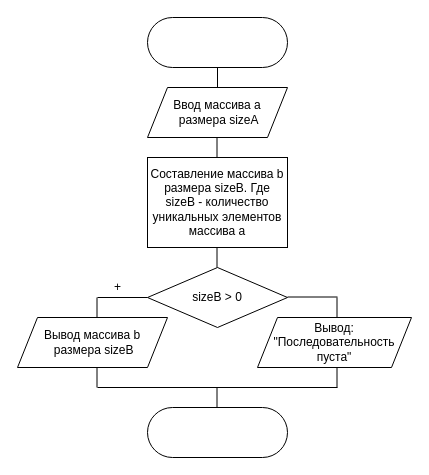
This 429x475 diagram has some shape labels left out. The shapes that lost their labels are listed below. From the top down, each one's centre as x and y in pixels, then its label:
At (217,42): "Начало".
At (217,432): "Конец".
